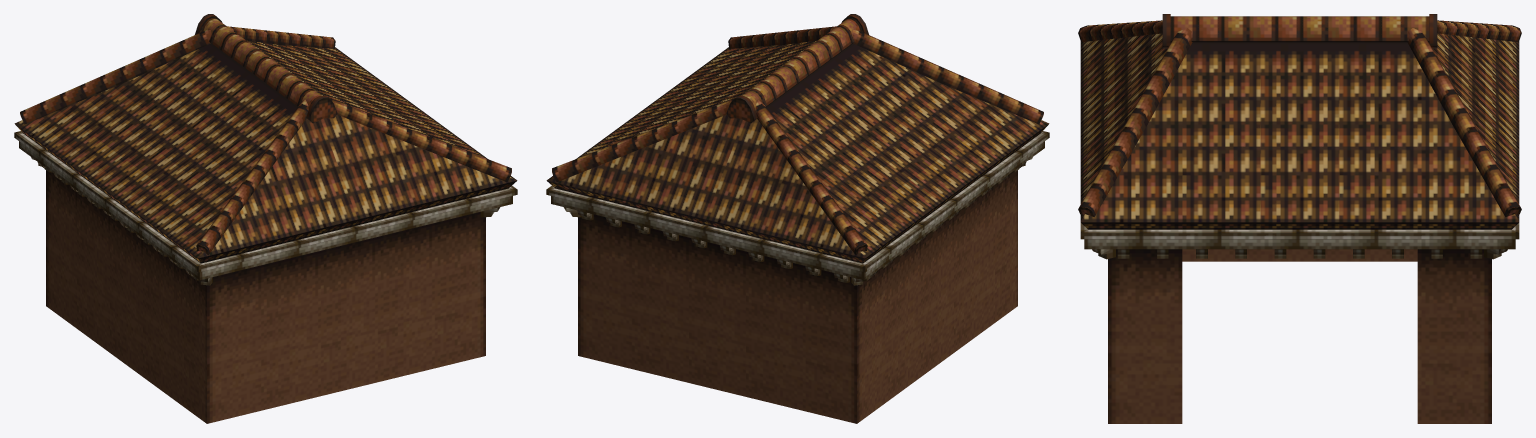
The model's file is EnvBdgMD_Sea_A_Outdoor_House_F_2F.FBX.
The picture shows the model from 3 angles, left to right: view 1: azimuth 30°, elevation 25°; view 2: azimuth 150°, elevation 25°; view 3: azimuth 270°, elevation 25°; orthographic projection. The views are drawn at different scales.
Parts seen in each view (by area): view 1: EnvBdgMD_Sea_A_Outdoor_House_F_2F; view 2: EnvBdgMD_Sea_A_Outdoor_House_F_2F; view 3: EnvBdgMD_Sea_A_Outdoor_House_F_2F.
Part boxes in pixels (left/top/right/bottom): EnvBdgMD_Sea_A_Outdoor_House_F_2F: left=14, top=14, right=517, bottom=423; EnvBdgMD_Sea_A_Outdoor_House_F_2F: left=546, top=14, right=1049, bottom=423; EnvBdgMD_Sea_A_Outdoor_House_F_2F: left=1078, top=14, right=1521, bottom=423.
Size of the model in its own units: 560 by 461 by 566.
Materials: 2 (2 with a texture image).
